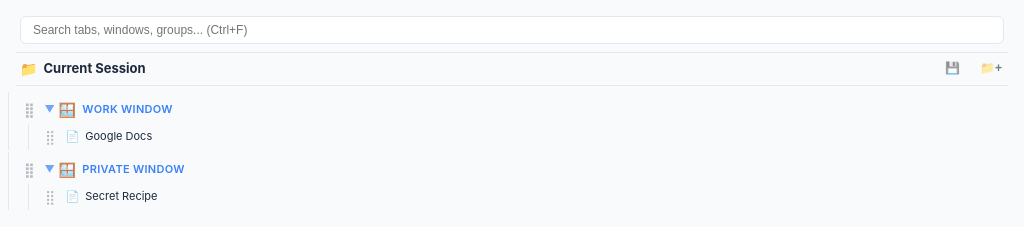
Test: Search Functionality › filters the tree based on tab title
Expected: the text "Google Docs" is shown, x1=85 y1=129 x2=152 y2=143
Expected: the text "Secret Recipe" is shown, x1=85 y1=189 x2=158 y2=203
// Type "Google"
Step 1. Type "Google" into the field with placeholder "Search tabs, windows, groups... (Ctrl+F)" → (512, 30), box x1=20 y1=16 x2=1004 y2=44
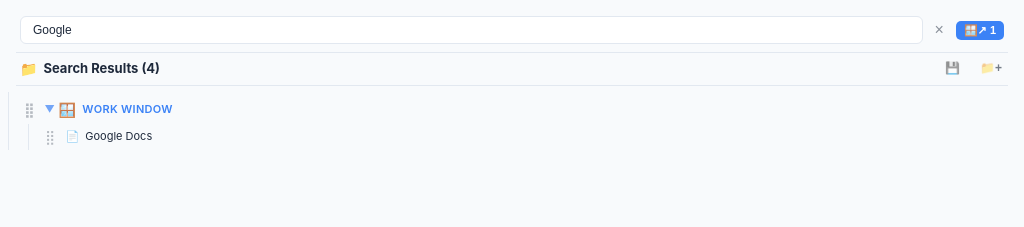
Expected: the text "Google Docs" is shown, x1=85 y1=129 x2=152 y2=143
Expected: the text "Secret Recipe" is gone
Expected: the text "Private Window" is gone
